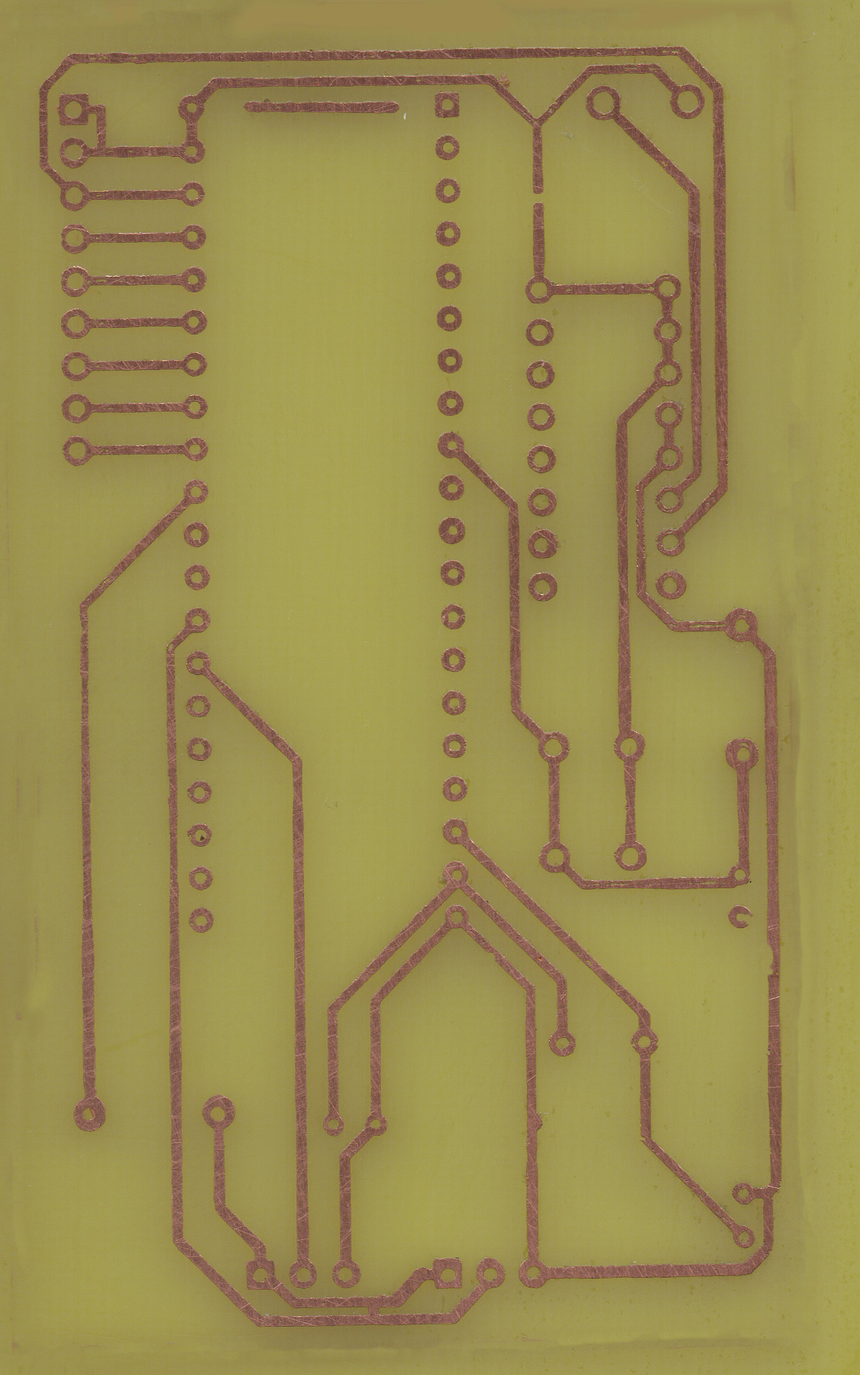missing_hole: (729, 903, 753, 928)
mouse_bite: (766, 942, 781, 981)
open_circuit: (533, 183, 546, 212)
short: (362, 1298, 386, 1323)
spur: (524, 1108, 546, 1136)
spurious_copper: (242, 99, 400, 114)
